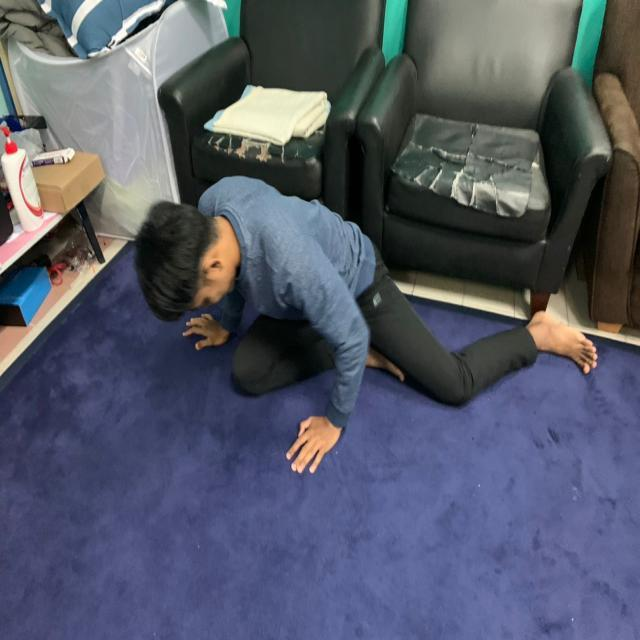fall: (134, 164, 598, 476)
